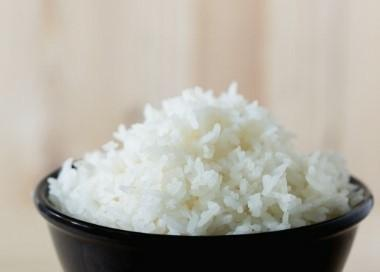WhiteRice: (47, 81, 365, 237)
